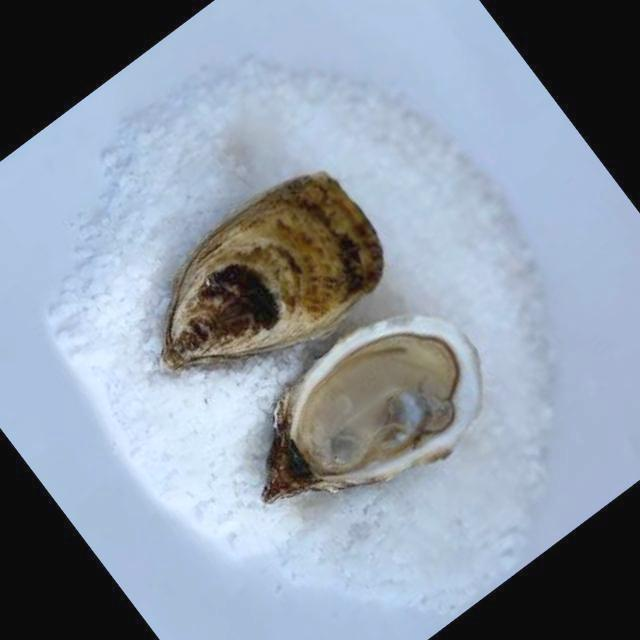Oyster-Closed: (160, 172, 384, 373)
Oyster-Open: (262, 316, 478, 505)
